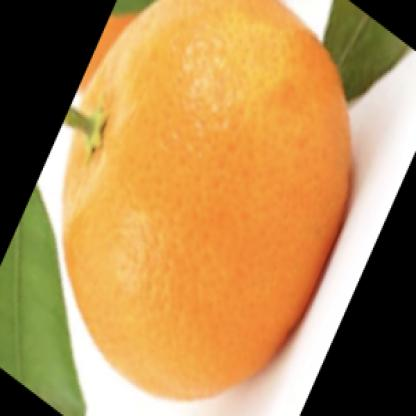fresh: (64, 1, 352, 403)
